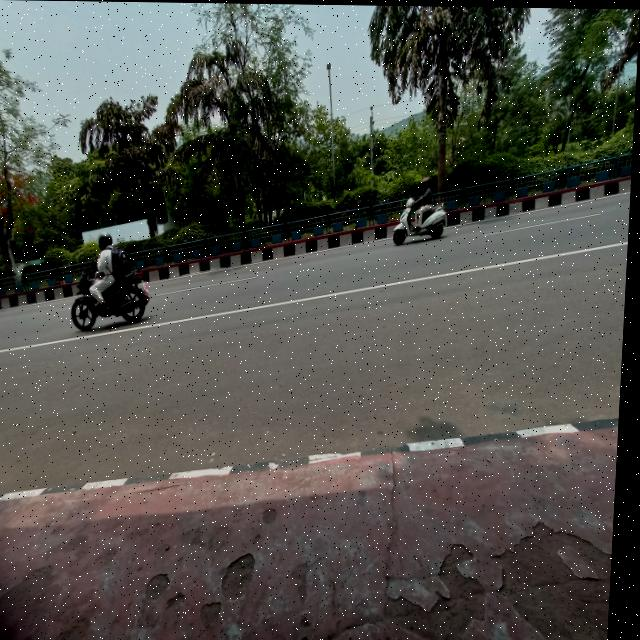bike: (68, 269, 160, 328), (397, 193, 456, 254)
